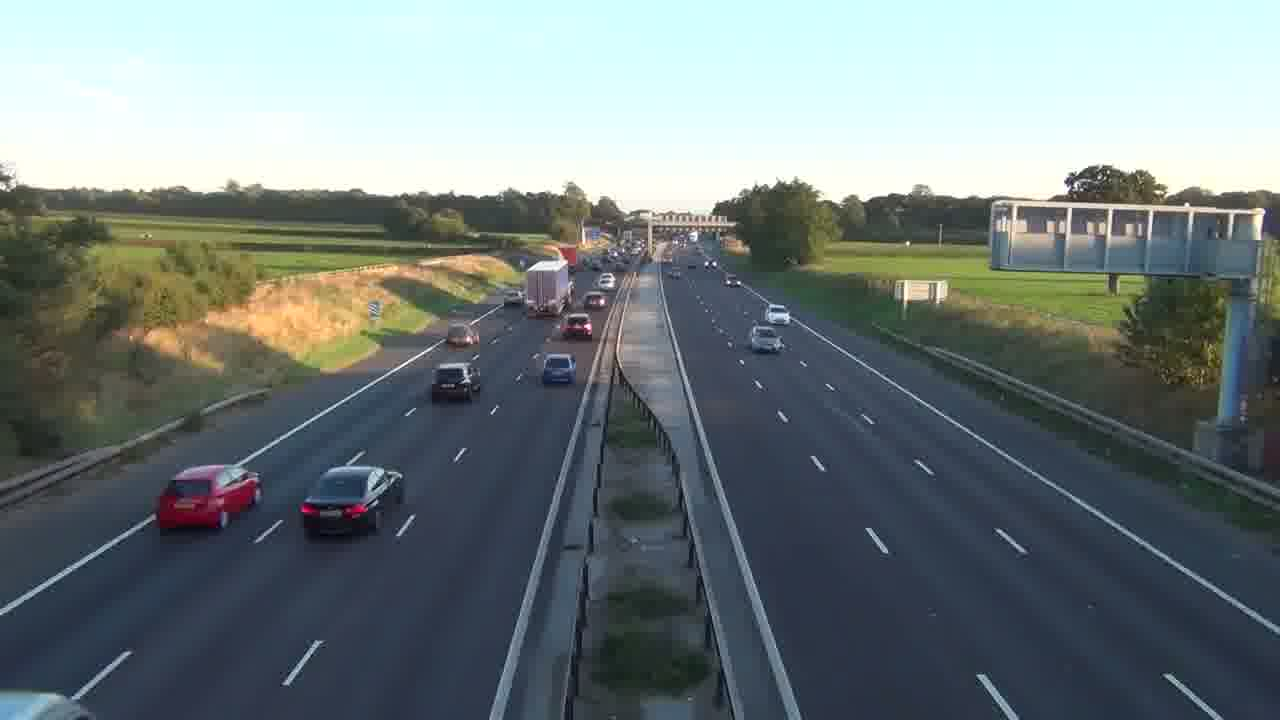car: (298, 462, 405, 538), (156, 463, 262, 531), (430, 361, 481, 402), (542, 352, 577, 386), (560, 313, 593, 340), (764, 304, 791, 325)
truck: (523, 258, 570, 318), (430, 361, 481, 402)
